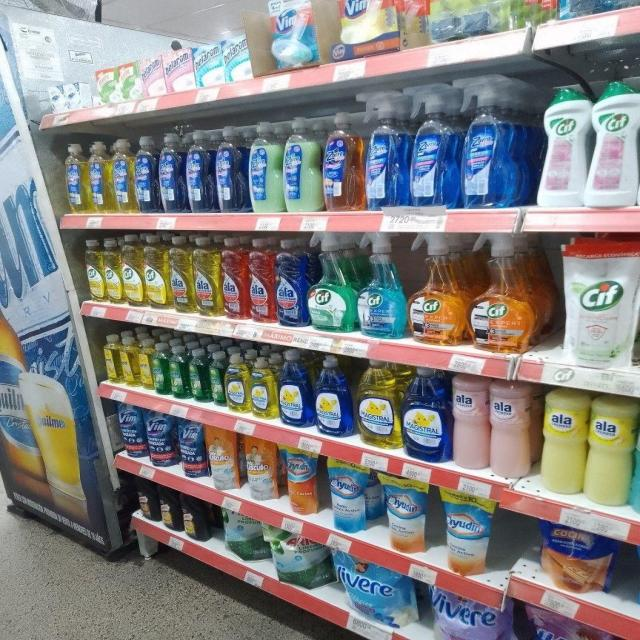ala_conc_amarillo: (193, 236, 220, 317), (169, 235, 193, 314)
ala_conc_azul: (275, 238, 307, 328)
ala_conc_rojo: (248, 237, 274, 324), (221, 237, 247, 321)
ala_crem_amarillo: (586, 393, 633, 508), (539, 388, 585, 498)
ala_crem_rosado: (490, 378, 534, 480), (452, 373, 488, 471)
cif_conc_bot_amarilla: (145, 233, 168, 310), (122, 234, 143, 307), (84, 238, 103, 303), (104, 237, 122, 304)
magistral_con_amarillo: (356, 359, 400, 449), (251, 354, 277, 420), (225, 351, 250, 414)
magistral_con_azul: (402, 367, 450, 462), (314, 355, 353, 437), (279, 349, 311, 428)
zorro: (282, 116, 320, 213), (248, 120, 282, 213), (112, 138, 134, 213), (88, 140, 110, 213)
